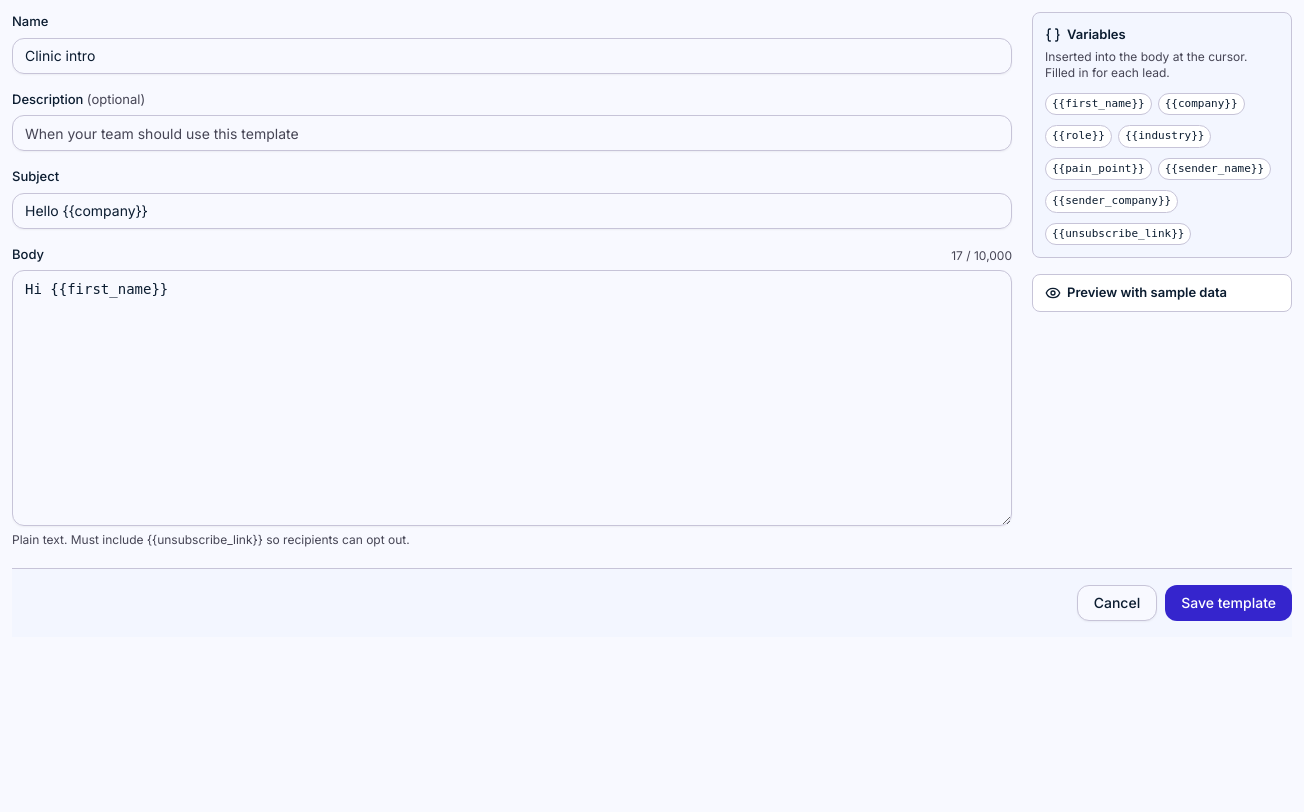
Test: TemplateForm › requires the unsubscribe link in the body
This screenshot has width=1304, height=812.
Click the button "Save template".
click(1229, 603)  # box x1=1165 y1=585 x2=1292 y2=621
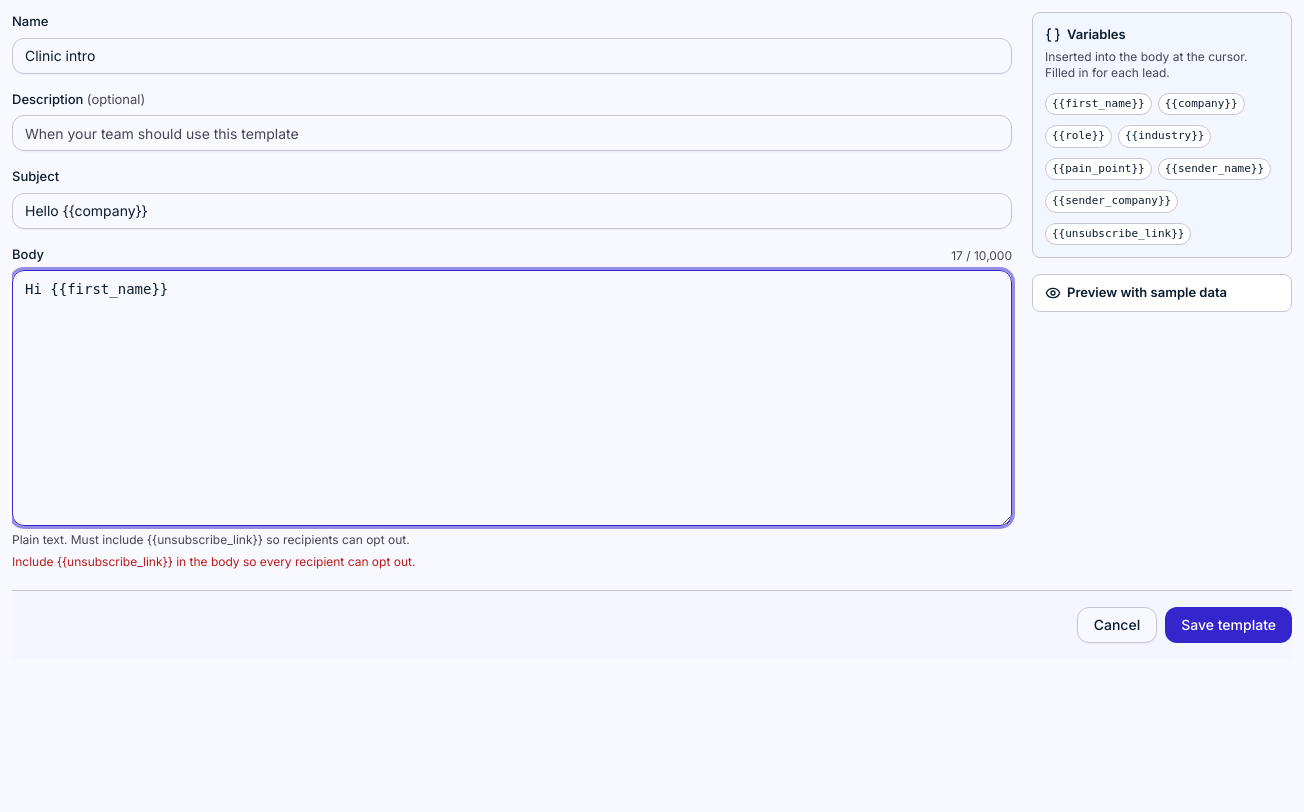
Expected: the text "Include {{unsubscribe_link}} in the body" is shown, x1=12 y1=554 x2=415 y2=569
